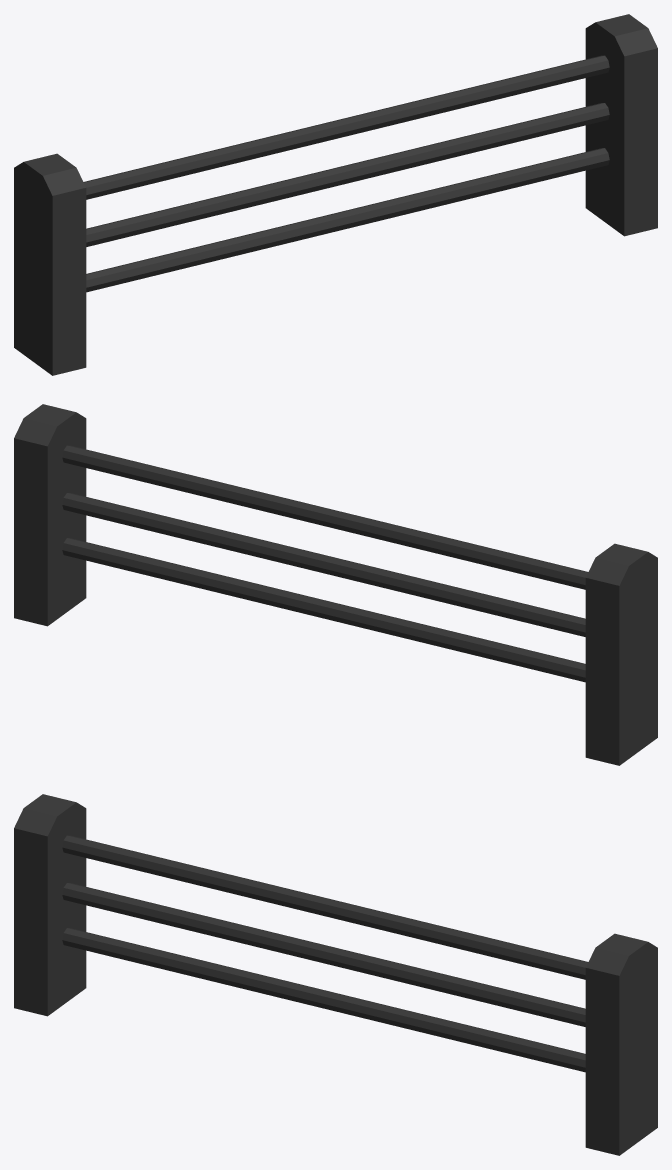
File: fence.fbx
3 views of the same model, one above another, from view 1: azimuth 30°, elevation 25°; view 2: azimuth 150°, elevation 25°; view 3: azimuth 330°, elevation 25° (orthographic).
Parts seen in each view (by area): view 1: pCube3, pCylinder1, pCylinder3, pCylinder2; view 2: pCube3, pCylinder1, pCylinder3, pCylinder2; view 3: pCube3, pCylinder1, pCylinder3, pCylinder2.
Part boxes in pixels (x1,y1,x2,y2): pCube3: (14,14,657,375); pCylinder1: (83,55,609,199); pCylinder3: (86,148,609,292); pCylinder2: (86,103,609,246); pCube3: (14,404,657,765); pCylinder1: (62,445,588,589); pCylinder3: (62,538,585,682); pCylinder2: (62,493,585,636); pCube3: (14,794,657,1155); pCylinder1: (62,835,588,979); pCylinder3: (62,928,585,1072); pCylinder2: (62,883,585,1026).
Size of the model in its own units: 21.05 by 6.41 by 2.32.
Materials: 1 (1 with a texture image).
